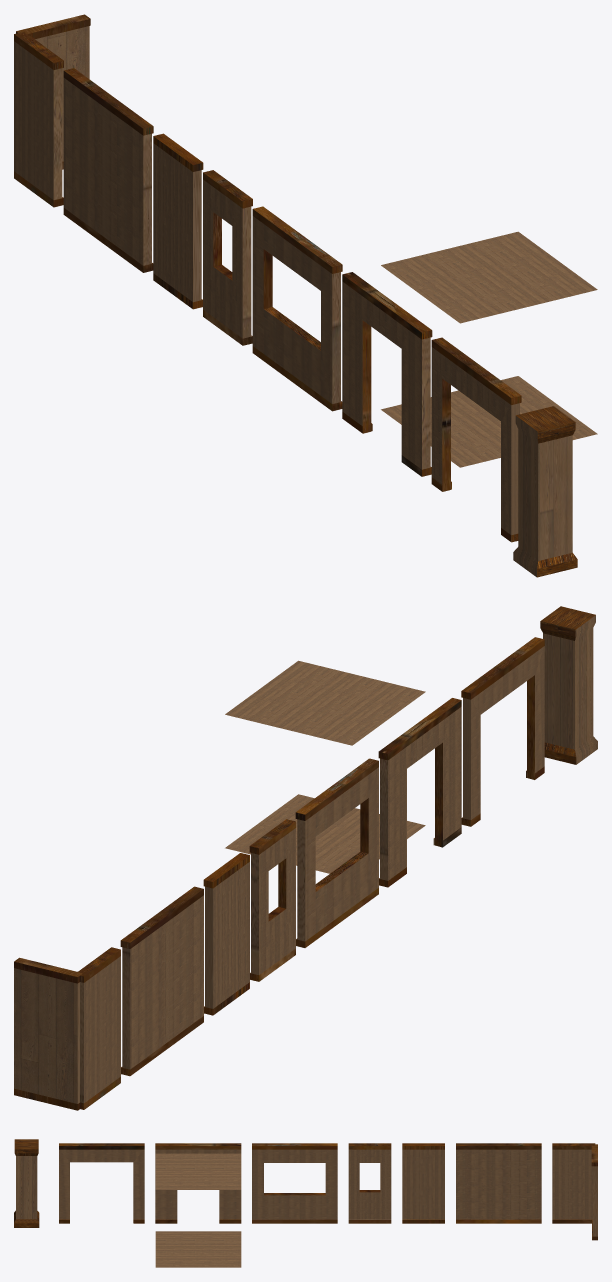
Rendered from plank_kit.glb.
The picture shows the model from 3 angles, top to bottom: view 1: azimuth 30°, elevation 25°; view 2: azimuth 150°, elevation 25°; view 3: azimuth 270°, elevation 25°; orthographic projection. The views are drawn at different scales.
Parts seen in each view (by area): view 1: Column_Material.001_0, Column_Material.002_0, Plane_Material.003_0; view 2: Column_Material.001_0, Column_Material.002_0, Plane_Material.003_0; view 3: Column_Material.001_0, Plane_Material.003_0, Column_Material.002_0.
Part boxes in pixels (x1,y1,x2,y2): Column_Material.001_0: (14, 26, 572, 577); Column_Material.002_0: (14, 14, 577, 577); Plane_Material.003_0: (381, 231, 597, 467); Column_Material.001_0: (14, 615, 597, 1103); Column_Material.002_0: (14, 606, 595, 1110); Plane_Material.003_0: (225, 660, 425, 873); Column_Material.001_0: (16, 1149, 597, 1236); Plane_Material.003_0: (155, 1153, 241, 1267); Column_Material.002_0: (14, 1139, 597, 1240).
Size of the model in its own units: 11.16 by 8.05 by 54.43.
Materials: 3 (3 with a texture image).
